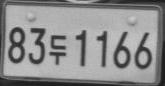1: (73, 29, 92, 66), (94, 30, 112, 67)
3: (28, 27, 46, 65)
6: (112, 30, 131, 69), (133, 32, 152, 69)
8: (7, 25, 25, 64)
두: (48, 34, 67, 66)
